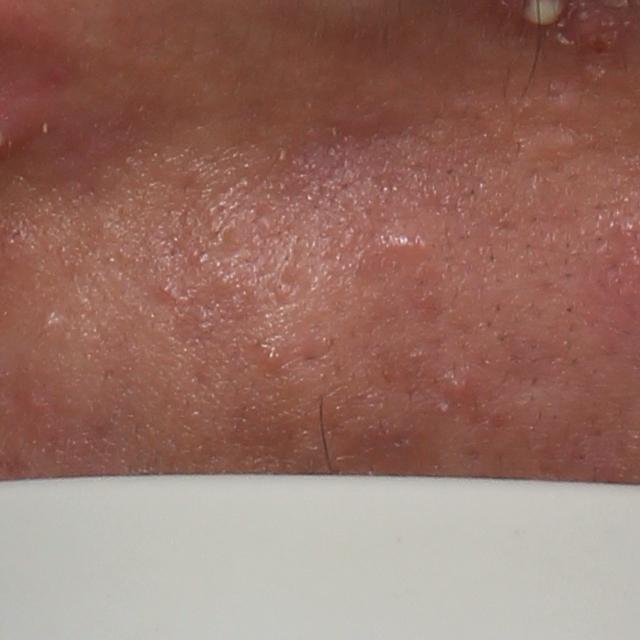comedo: (252, 340, 283, 371)
papule: (378, 215, 435, 267), (446, 369, 475, 403)
